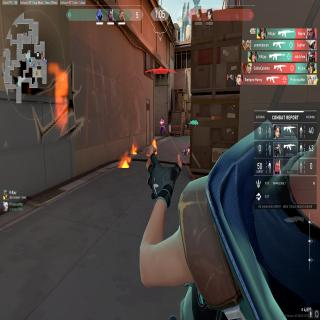ENEMY-HEAD: (161, 117, 163, 121)
